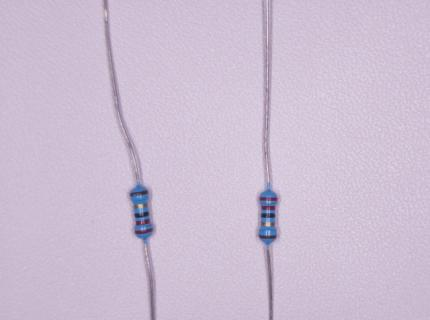Black band: (135, 211, 150, 218), (261, 213, 276, 217)
Brown band: (130, 190, 148, 196), (259, 235, 277, 239)
Gold band: (134, 203, 148, 209), (261, 222, 275, 227)
Red band: (136, 219, 151, 226), (136, 228, 153, 234), (259, 197, 277, 201), (261, 206, 276, 210)
